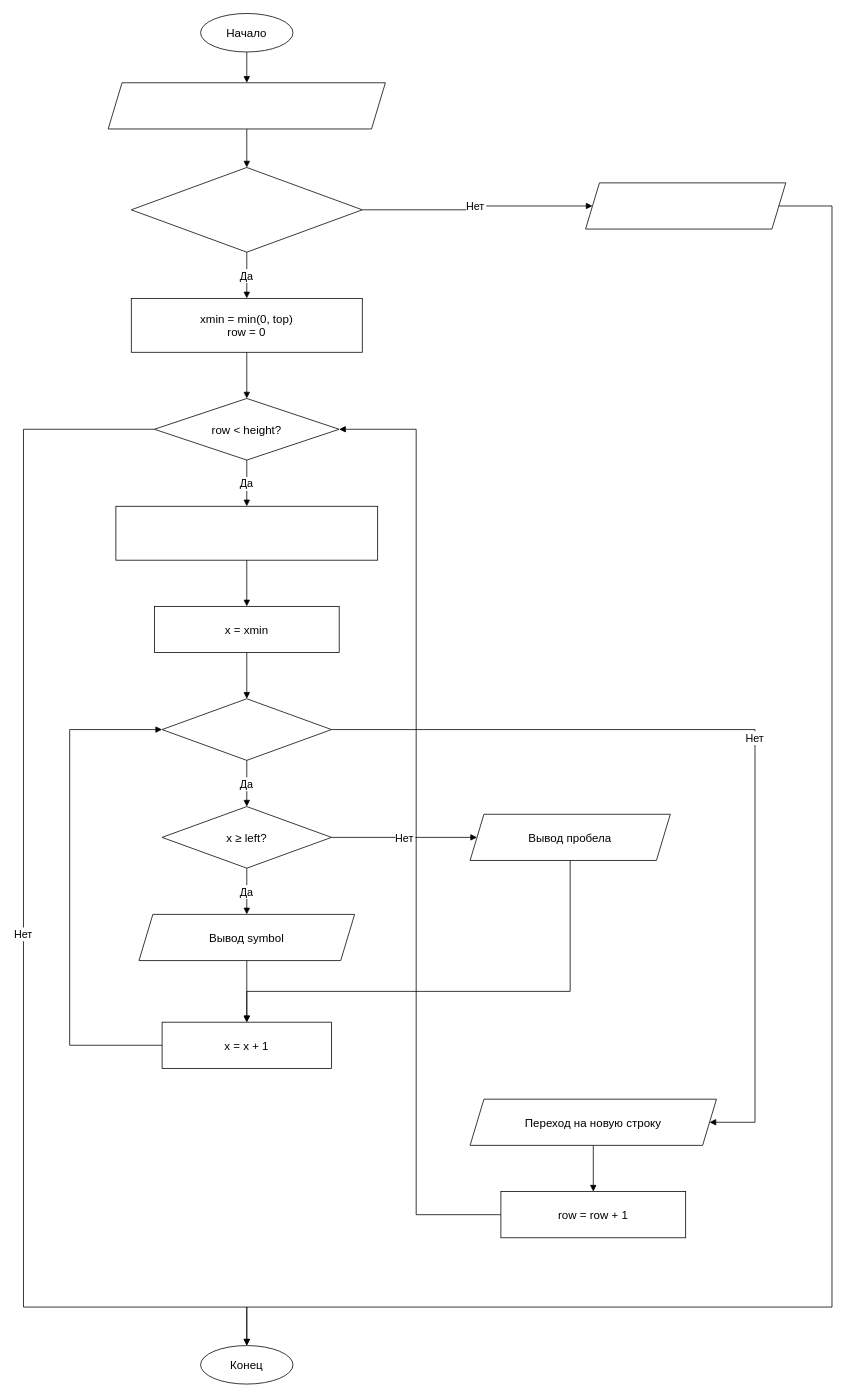
This 852x1398 diagram has some shape labels left out. Each missing label, with the centre of its shape:
x ≤ right?: point (246, 729)
Ввод symbol, width, height, top: point (246, 105)
Ввод корректен? width ≥ 2, height ≥ 2: point (246, 209)
Вывод ошибки: point (685, 205)
Вычислить left и right для строки row: point (246, 533)
